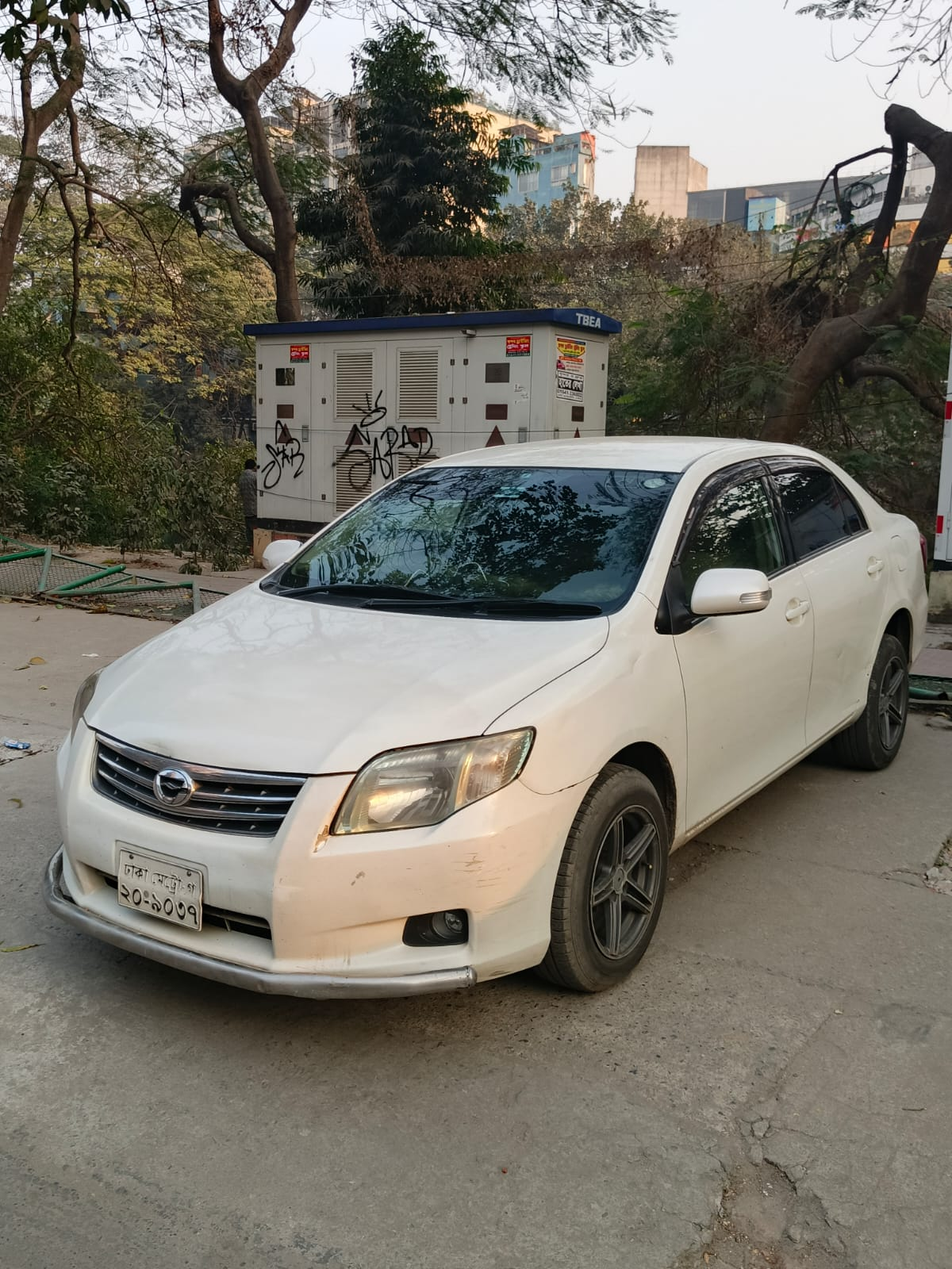private car: (56, 422, 952, 1023)
